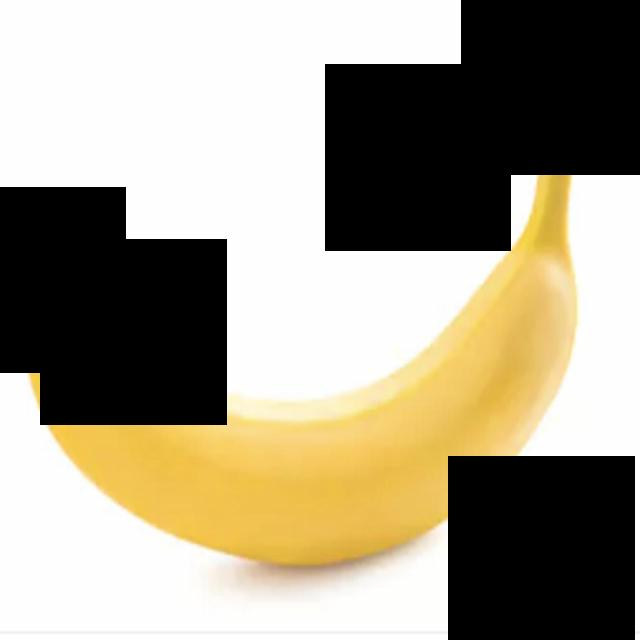banana: (0, 8, 638, 596)
